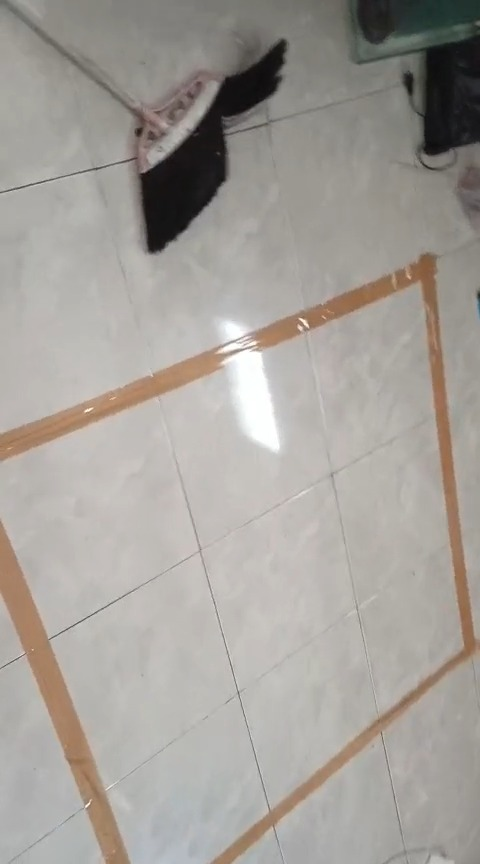floor marking: (0, 254, 479, 863), (0, 524, 130, 863)
